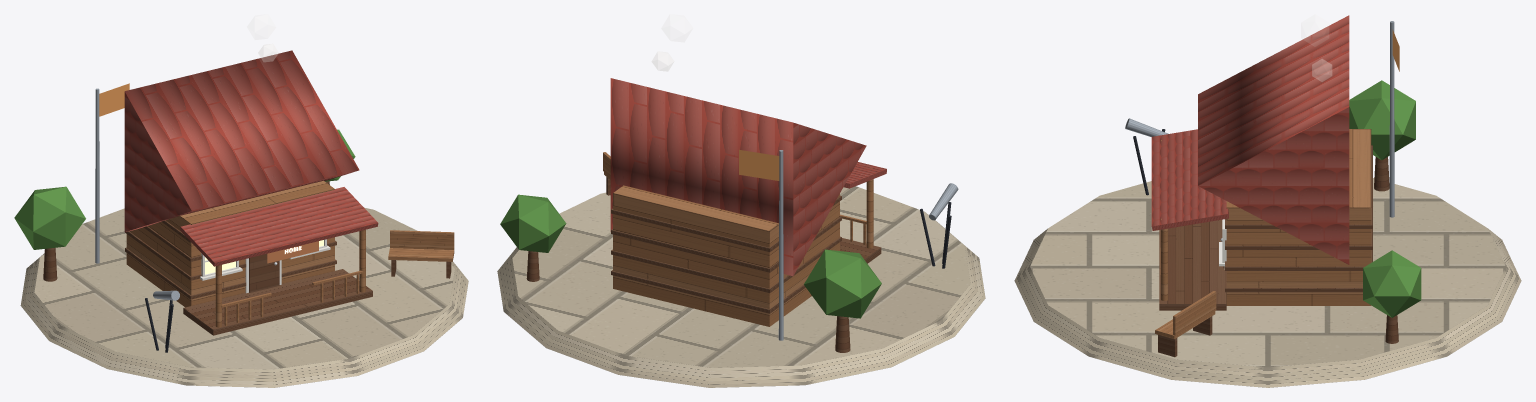
The model's file is landmark-home.glb.
The picture shows the model from 3 angles, left to right: view 1: azimuth 30°, elevation 25°; view 2: azimuth 150°, elevation 25°; view 3: azimuth 270°, elevation 25°; orthographic projection. The views are drawn at different scales.
Visible parts, largest first — view 1: landmark-home; view 2: landmark-home; view 3: landmark-home.
Boxes of the visible parts, bbox=[...] form: landmark-home: bbox=[14, 14, 468, 387]; landmark-home: bbox=[497, 14, 985, 387]; landmark-home: bbox=[1014, 15, 1521, 387].
Bounding box in the file's own units: 9.8 × 6.05 × 9.8.
Materials: 16 (7 with a texture image).
